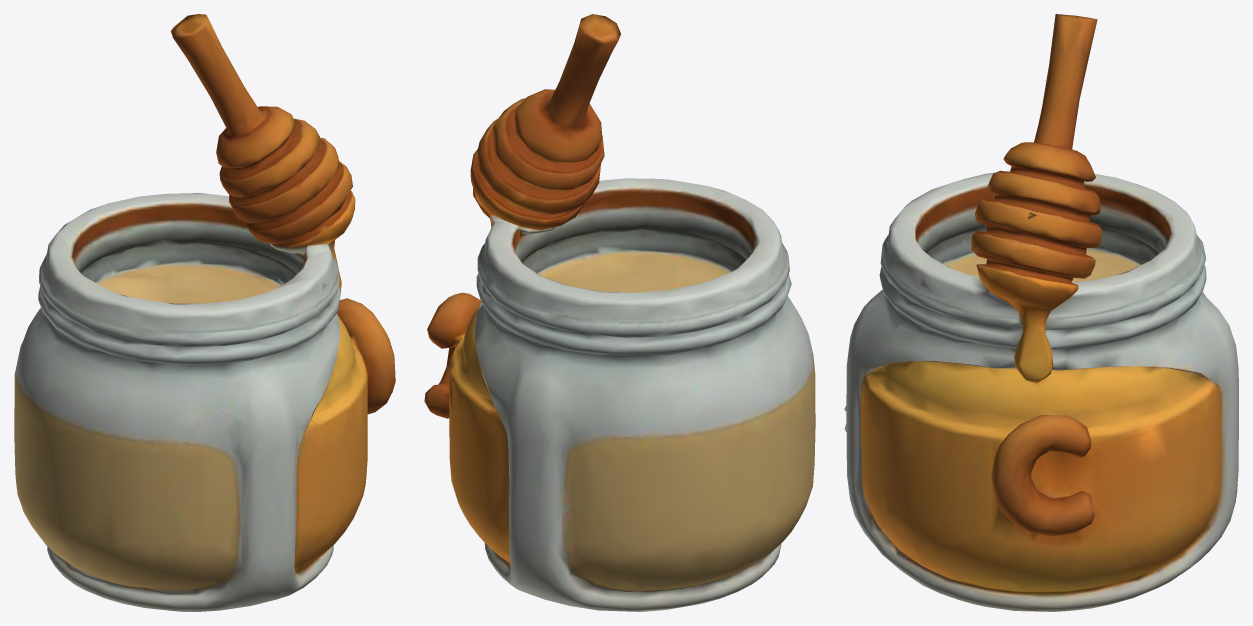
File: honey_jar.glb
3 renders of one model, left to right at view 1: azimuth 30°, elevation 25°; view 2: azimuth 150°, elevation 25°; view 3: azimuth 270°, elevation 25°, orthographic. The views are drawn at different scales.
Visible parts, largest first — view 1: tripo_node_37695cf3-0bef-4925-afa9-8a179a2402a4; view 2: tripo_node_37695cf3-0bef-4925-afa9-8a179a2402a4; view 3: tripo_node_37695cf3-0bef-4925-afa9-8a179a2402a4.
Part boxes in pixels (x1,y1,x2,y2): tripo_node_37695cf3-0bef-4925-afa9-8a179a2402a4: (14, 14, 395, 611); tripo_node_37695cf3-0bef-4925-afa9-8a179a2402a4: (424, 14, 815, 611); tripo_node_37695cf3-0bef-4925-afa9-8a179a2402a4: (844, 14, 1238, 611).
Bounding box in the file's own units: 0.103 × 0.15 × 0.0973.
Materials: 1 (1 with a texture image).
